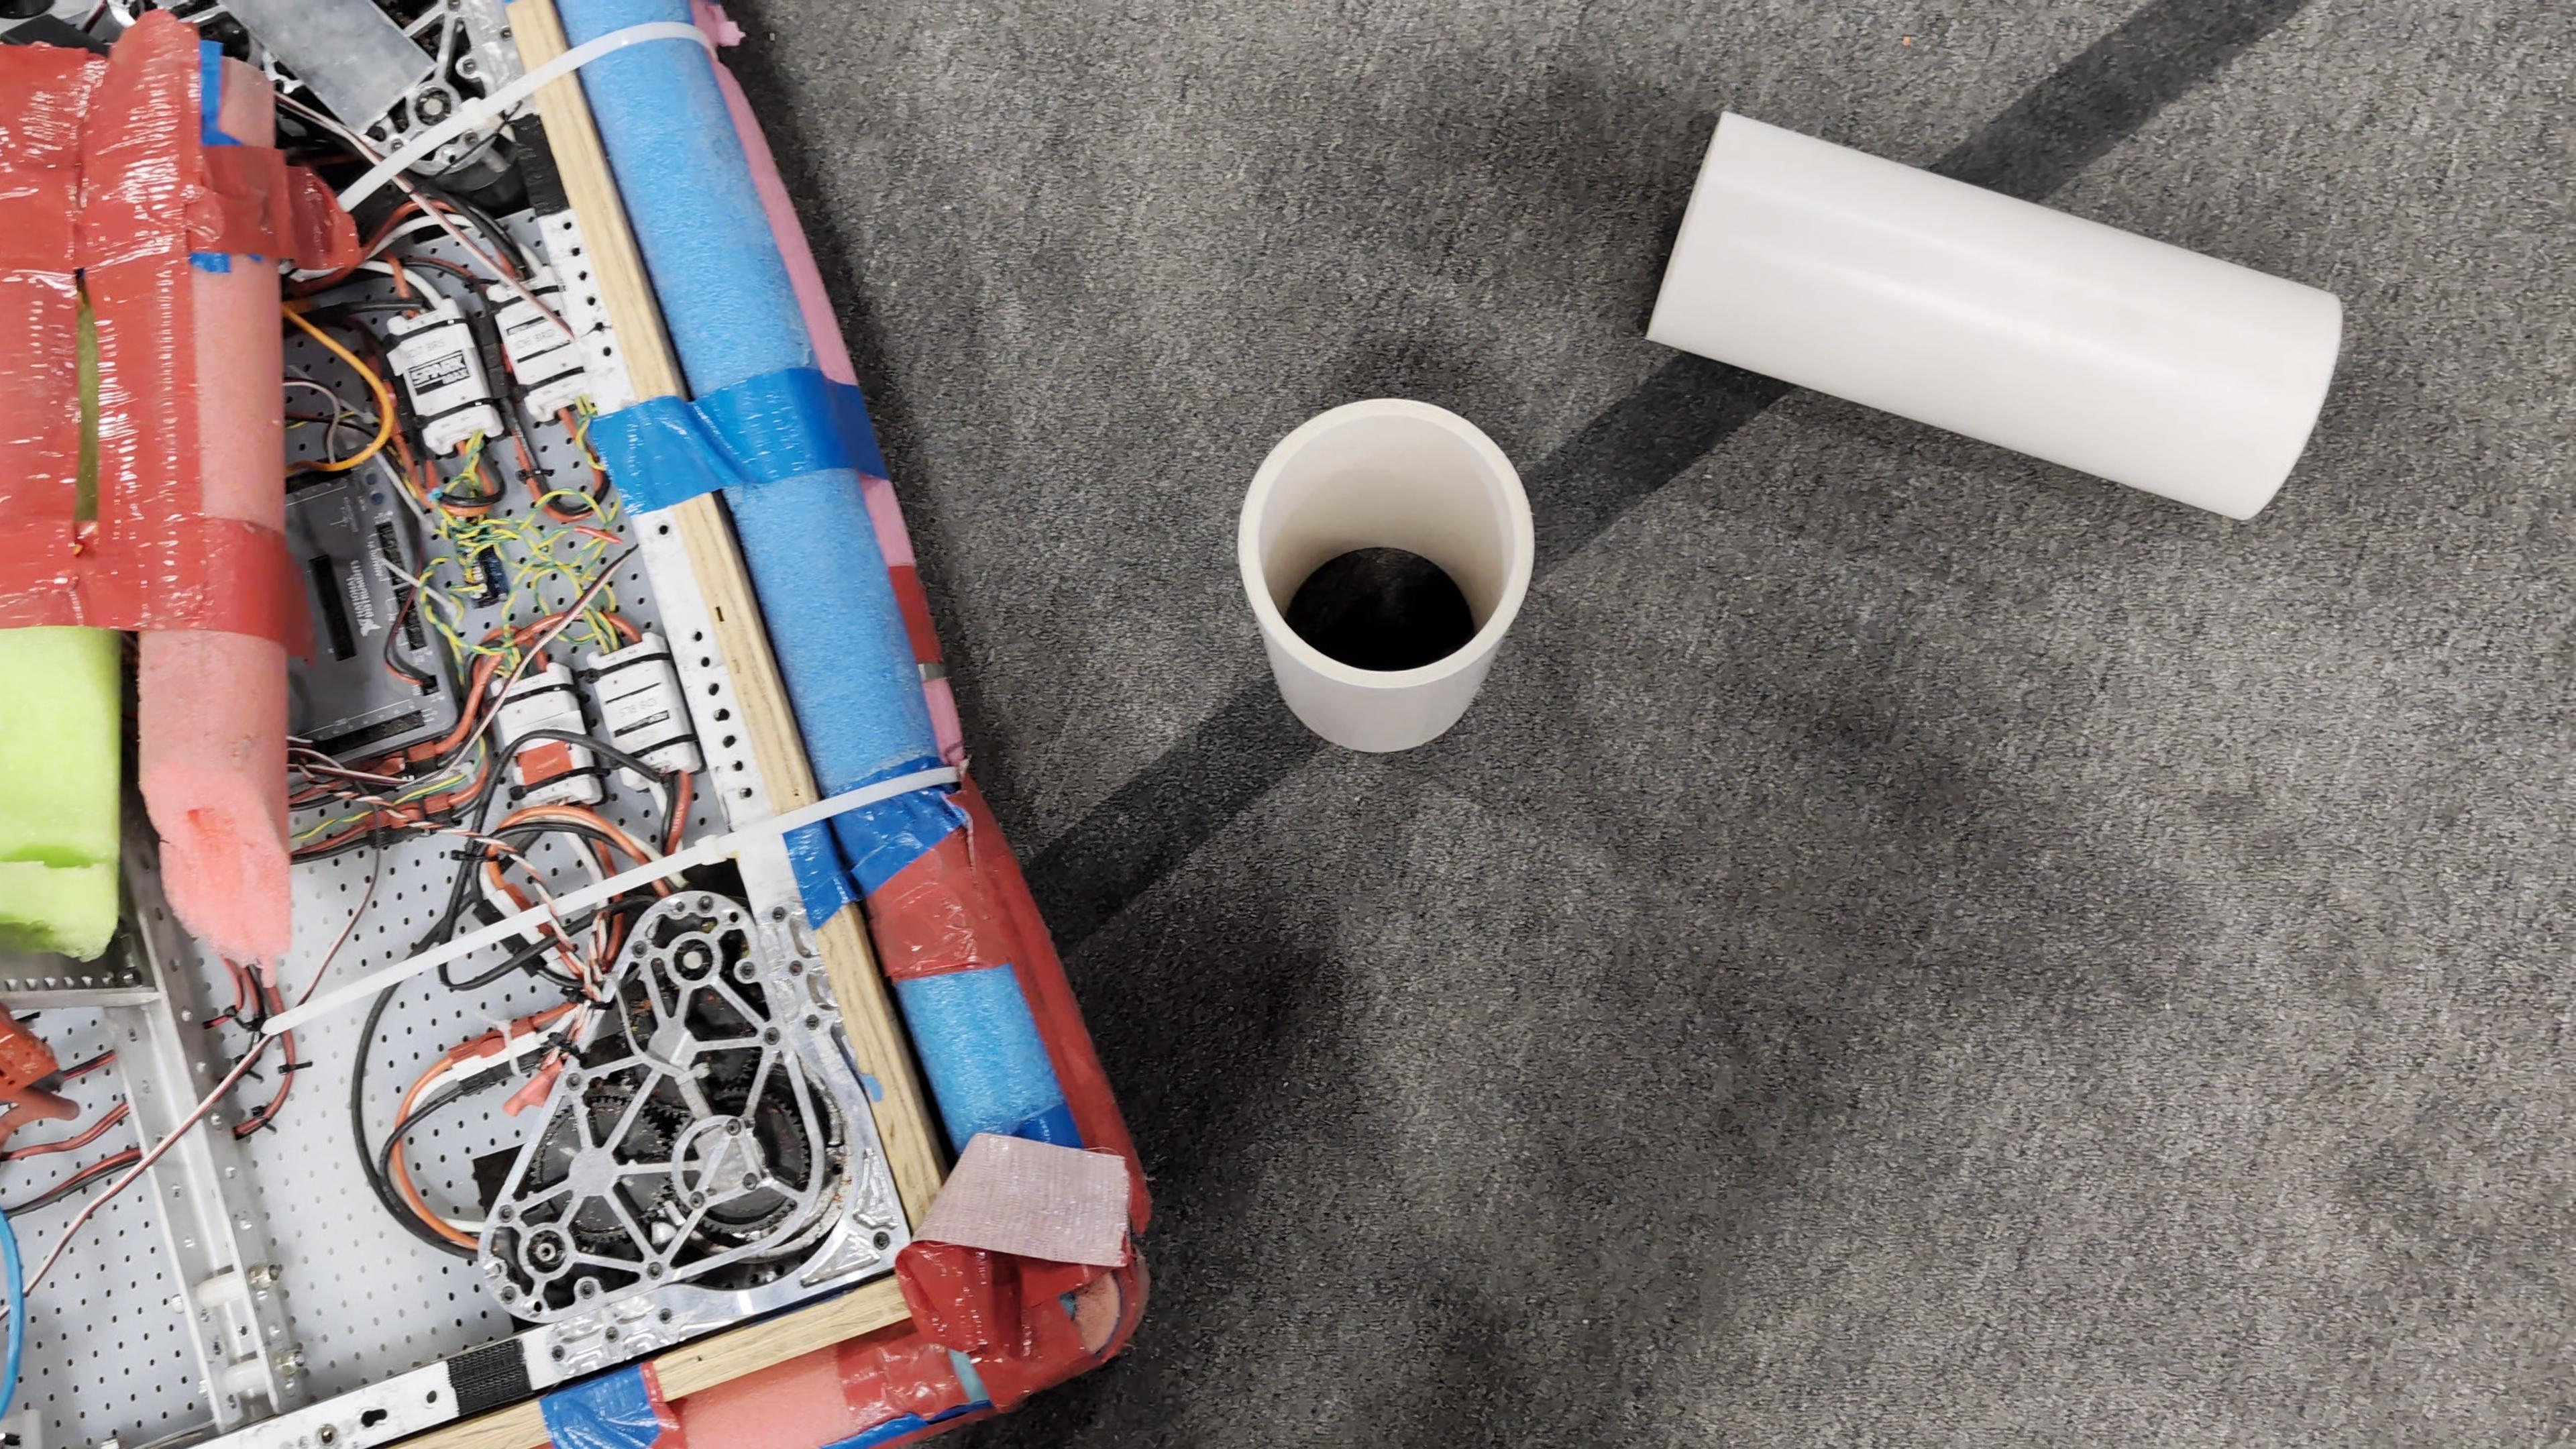coral: (1645, 111, 2341, 524), (1238, 398, 1536, 754)
